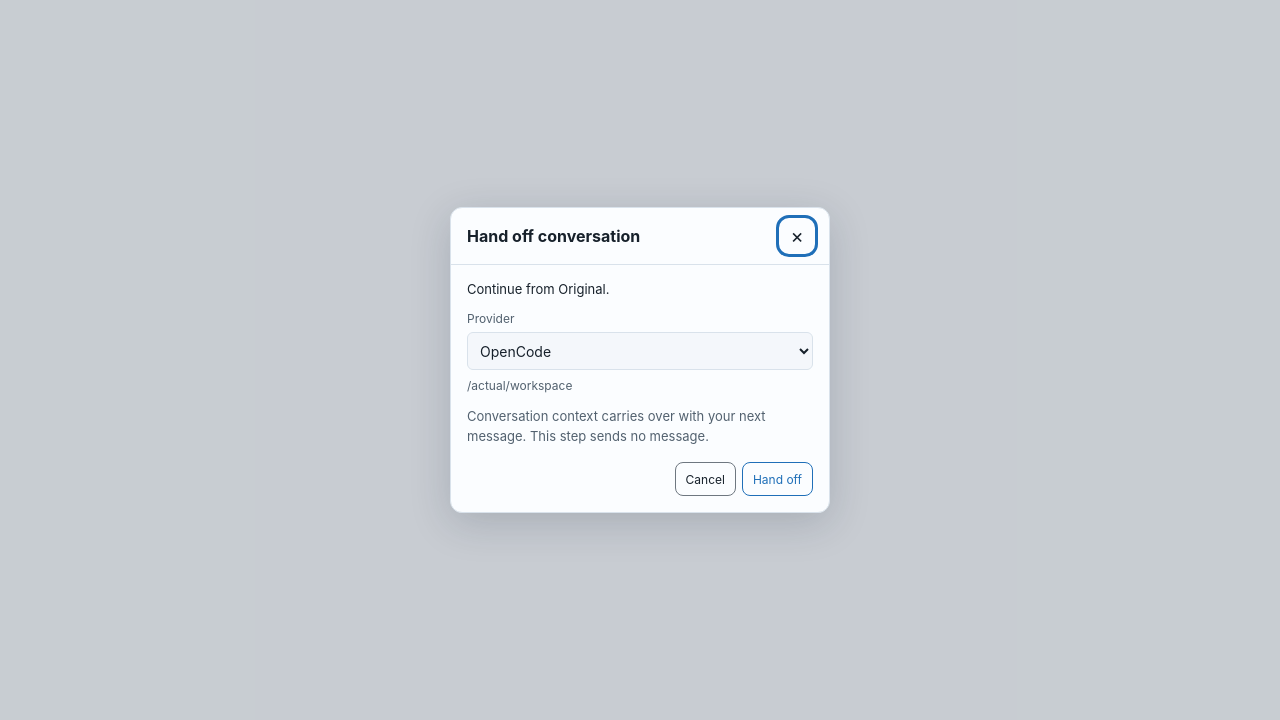
it: does not present the earlier ready receipt as confirmed after a lost commit response
What coordinates should you click on to do the following:
click the button "Hand off"
I would click on:
 (777, 479)
Its box is [742,462,813,496].
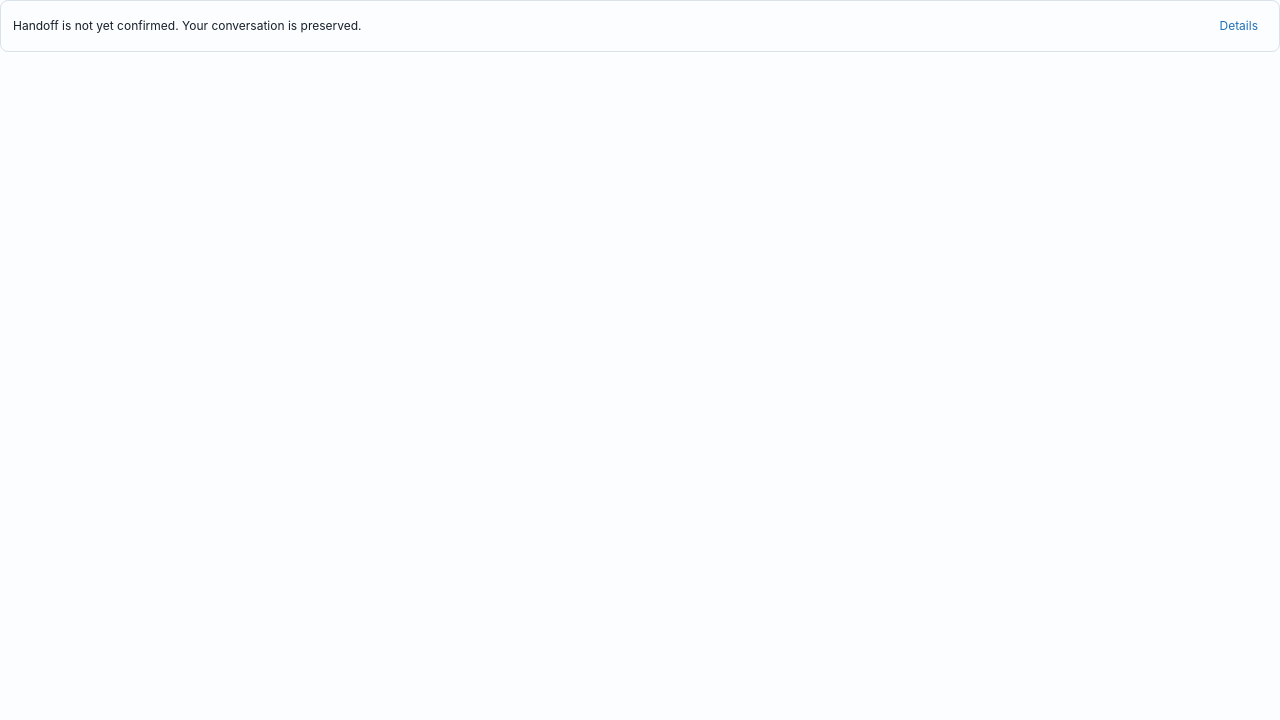
Now the message "Handoff is not yet confirmed. Your conversation is preserved." is shown, box [13,17,362,35]
